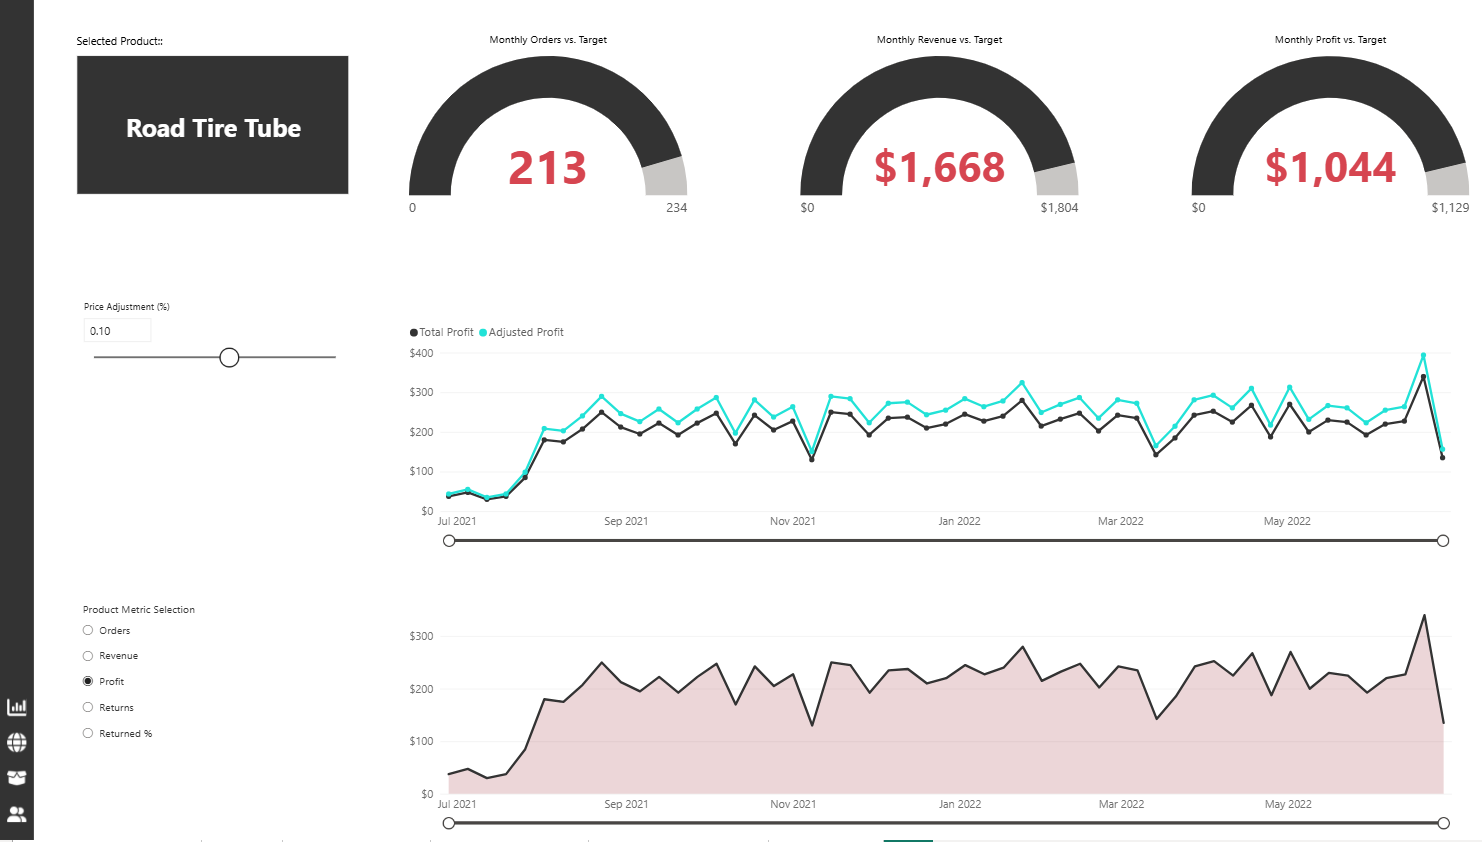

The dashboard page shown, as its layout file describes it:
{"tool":"powerbi","page":{"name":"Product Detail","canvas":[1920,1080],"ordinal":2},"visuals":[{"type":"shape","box":[0,0,45,1080],"z":0},{"type":"gauge","title":"Monthly Orders vs. Target","fields":{"MaxValue":["Measure Table.Order Target"],"Y":["Measure Table.Total Orders"]},"box":[509.7,27.1,389.6,285.4],"z":1000},{"type":"gauge","title":"Monthly Profit vs. Target","fields":{"MaxValue":["Measure Table.Profit Target"],"Y":["Measure Table.Total Profit"]},"box":[1514.5,27.3,389.1,285.5],"z":2000},{"type":"gauge","title":"Monthly Revenue vs. Target","fields":{"MaxValue":["Measure Table.Revenue Target"],"Y":["Measure Table.Total Revenue"]},"box":[1012.1,27.1,389.6,285.4],"z":3000},{"type":"lineChart","title":"Profit Trending","fields":{"Category":["Calendar Lookup.Date Hierarchy.Start of Year","Calendar Lookup.Date Hierarchy.Start of Month","Calendar Lookup.Date Hierarchy.Start of Week","Calendar Lookup.Date Hierarchy.Date"],"Y":["Measure Table.Total Profit","Measure Table.Adjusted Profit"]},"box":[509.9,397.7,1390.4,319.5],"z":4000},{"type":"areaChart","title":"Return Trending","fields":{"Category":["Calendar Lookup.Date Hierarchy.Start of Year","Calendar Lookup.Date Hierarchy.Start of Month","Calendar Lookup.Date Hierarchy.Start of Week","Calendar Lookup.Date Hierarchy.Date"],"Y":["Measure Table.Total Profit"]},"box":[510.5,760.9,1391.7,319.4],"z":5000},{"type":"cardVisual","fields":{"Data":["Min(Product Lookup.ProductName)"]},"box":[99,72.7,350.9,180],"z":6000},{"type":"textbox","box":[100,43.6,160,29.1],"z":7000},{"type":"actionButton","box":[0.2,889.8,45.4,41.7],"z":8000},{"type":"actionButton","box":[0.2,934.6,45.4,41.7],"z":9000},{"type":"actionButton","box":[0.2,979.3,45.4,42.6],"z":10000},{"type":"actionButton","box":[0.2,1025,45.4,42.6],"z":11000},{"type":"slicer","fields":{"Values":["Price Adjustment (%).Price Adjustment (%)"]},"box":[101.1,386.9,349.9,139.7],"z":12000},{"type":"slicer","fields":{"Values":["Product Metric Selection.Product Metric Selection"]},"box":[99.5,773.7,351.5,226.3],"z":13000}]}

Visuals, with their boxes on the page's 1920x1080 design canvas (x1, y1, x2, y2). These are canvas units, not pixel positions in the 1482x842 screenshot, which may show the page scaled, cropped or inside an application window:
shape: box=[0, 0, 45, 1080]
"Monthly Orders vs. Target" gauge: box=[510, 27, 899, 312]
"Monthly Profit vs. Target" gauge: box=[1514, 27, 1904, 313]
"Monthly Revenue vs. Target" gauge: box=[1012, 27, 1402, 312]
"Profit Trending" lineChart: box=[510, 398, 1900, 717]
"Return Trending" areaChart: box=[510, 761, 1902, 1080]
cardVisual - Min(Product Lookup.ProductName): box=[99, 73, 450, 253]
textbox: box=[100, 44, 260, 73]
actionButton: box=[0, 890, 46, 932]
actionButton: box=[0, 935, 46, 976]
actionButton: box=[0, 979, 46, 1022]
actionButton: box=[0, 1025, 46, 1068]
slicer - Price Adjustment (%).Price Adjustment (%): box=[101, 387, 451, 527]
slicer - Product Metric Selection.Product Metric Selection: box=[100, 774, 451, 1000]
